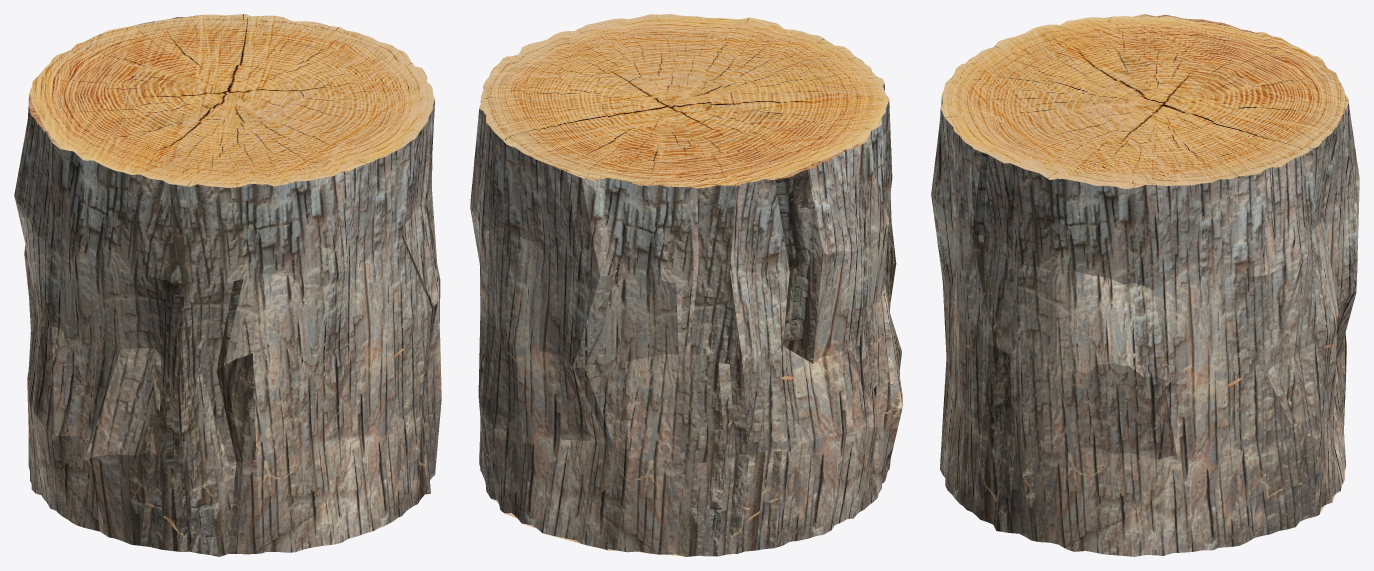
File: Tree log SEAT.fbx
3 views of the same model, side by side, from view 1: azimuth 30°, elevation 25°; view 2: azimuth 150°, elevation 25°; view 3: azimuth 270°, elevation 25° (orthographic).
Parts seen in each view (by area): view 1: Cylinder; view 2: Cylinder; view 3: Cylinder.
Part boxes in pixels (x1,y1,x2,y2): Cylinder: (14,14,441,556); Cylinder: (470,14,902,556); Cylinder: (931,14,1359,556).
Size of the model in its own units: 2.1 by 2.03 by 2.11.
